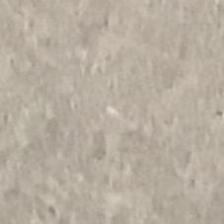Non_Crack: (6, 34, 214, 219)
